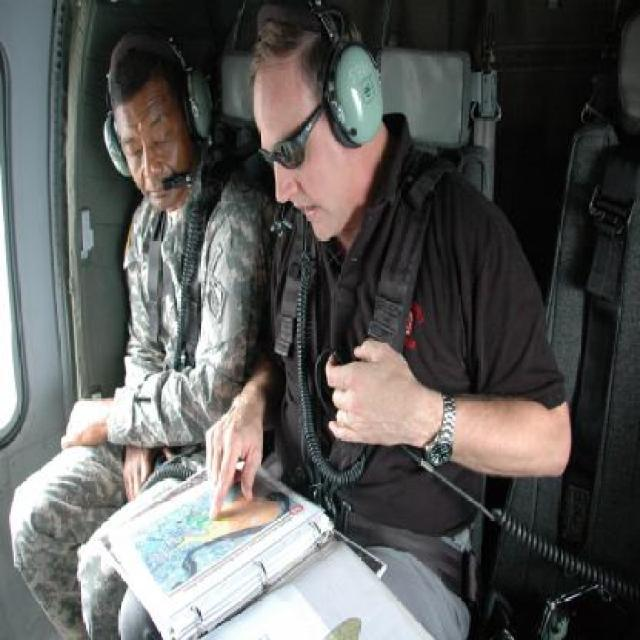earphone: (291, 0, 400, 148), (148, 35, 230, 143)
